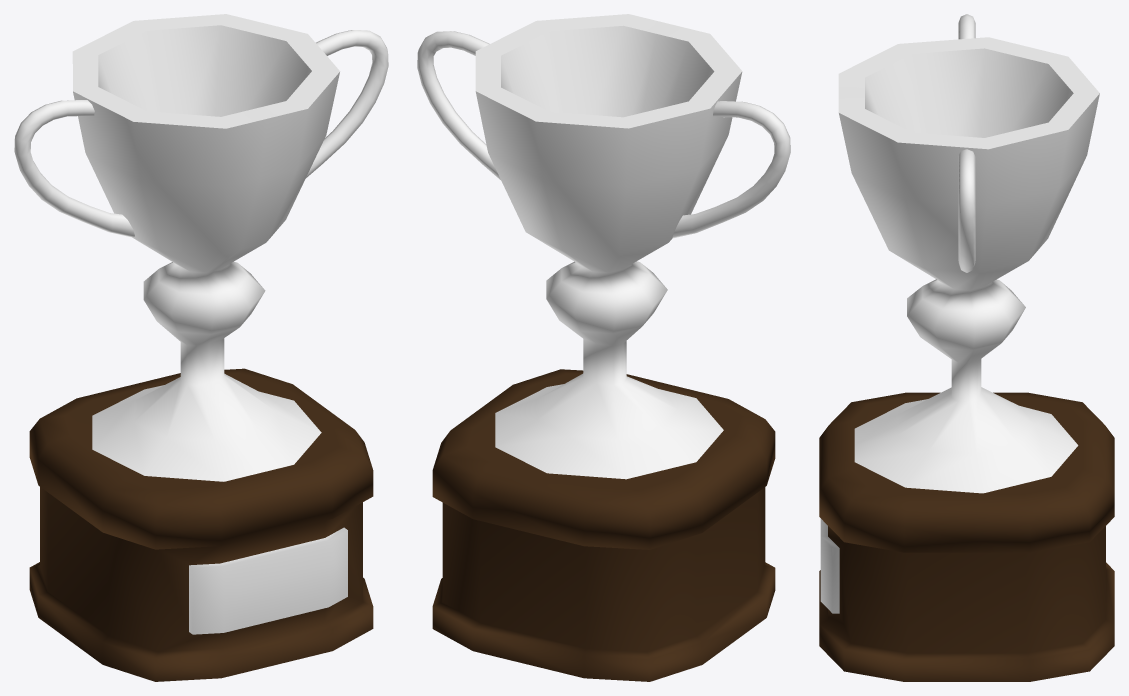
File: TrophySilver.glb
3 views of the same model, side by side, from view 1: azimuth 30°, elevation 25°; view 2: azimuth 150°, elevation 25°; view 3: azimuth 270°, elevation 25° (orthographic). The views are drawn at different scales.
Parts seen in each view (by area): view 1: TrophySilver; view 2: TrophySilver; view 3: TrophySilver.
Part boxes in pixels (left/top/right/bottom): TrophySilver: left=14, top=14, right=388, bottom=681; TrophySilver: left=417, top=14, right=790, bottom=681; TrophySilver: left=819, top=14, right=1114, bottom=681.
Size of the model in its own units: 0.6683 by 0.9302 by 0.47.
Materials: 2 (2 with a texture image).
